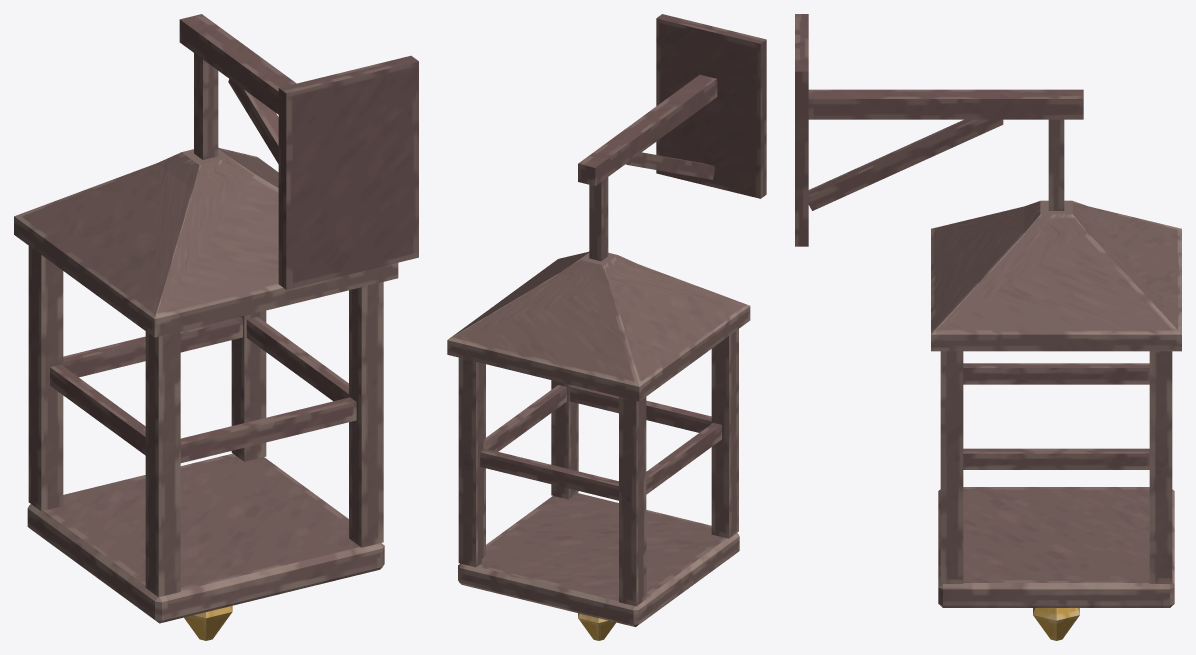
File: lantern_wall_body.fbx
3 renders of one model, left to right at view 1: azimuth 30°, elevation 25°; view 2: azimuth 150°, elevation 25°; view 3: azimuth 270°, elevation 25°, orthographic. The views are drawn at different scales.
Visible parts, largest first — view 1: lantern_wall_body; view 2: lantern_wall_body; view 3: lantern_wall_body.
Part boxes in pixels (bbox=[...]): lantern_wall_body: bbox=[14, 14, 418, 640]; lantern_wall_body: bbox=[447, 14, 766, 640]; lantern_wall_body: bbox=[795, 14, 1181, 640].
Size of the model in its own units: 1.1 by 2.89 by 1.7.
